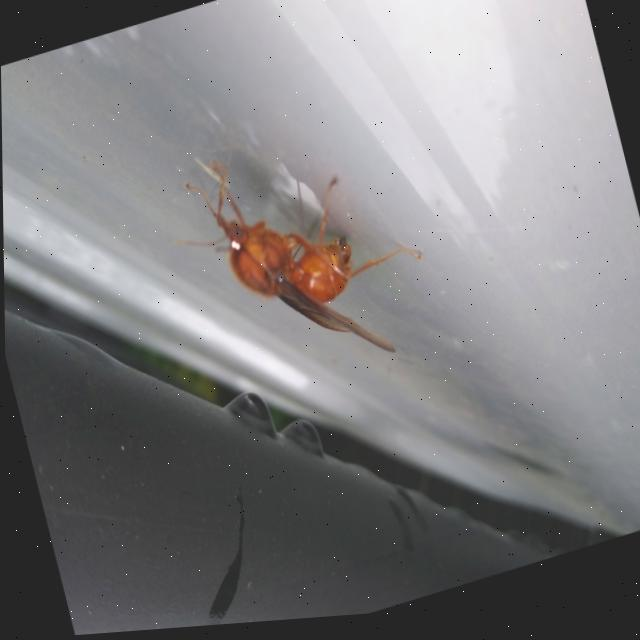Alive-Male-Alate: (156, 109, 441, 414)
